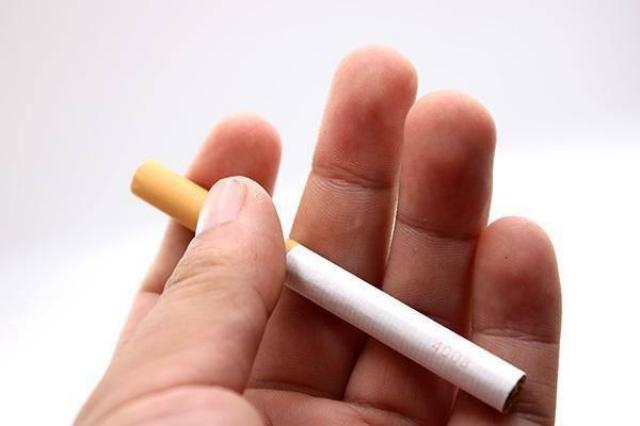Smoking: (129, 158, 526, 414)
